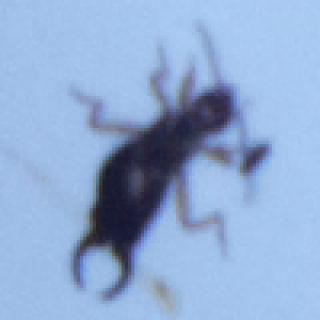earwig: (59, 17, 261, 302)
